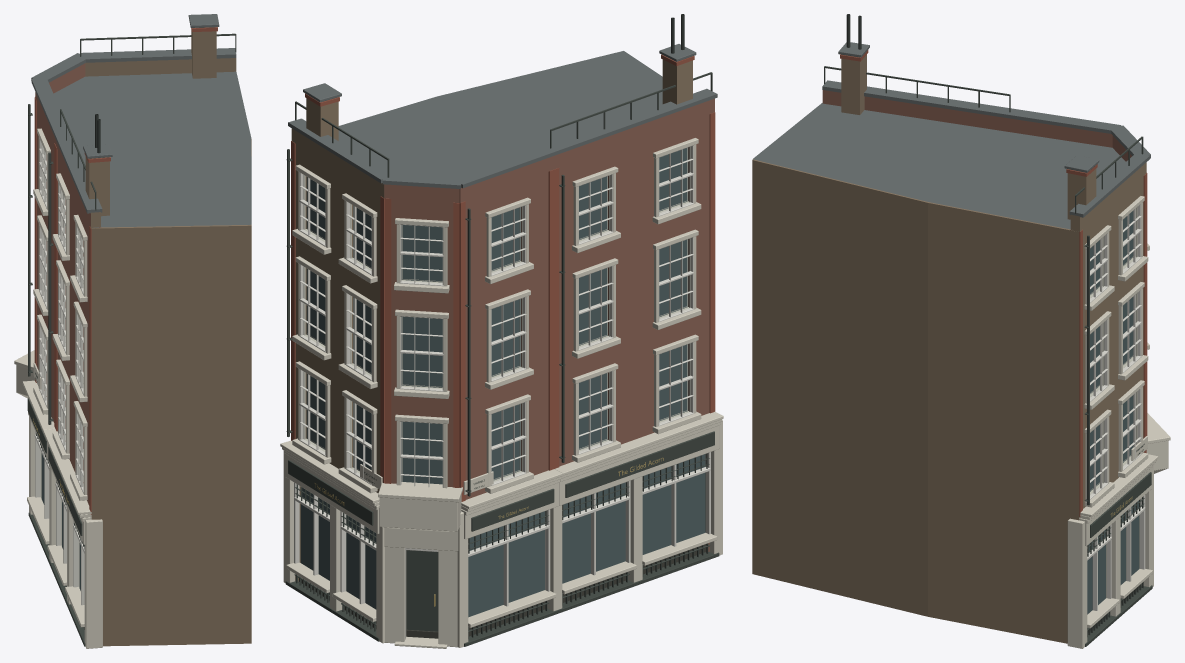
Rendered from por-exterior-2b2f5c6285af.glb.
3 views of the same model, side by side, from view 1: azimuth 30°, elevation 25°; view 2: azimuth 150°, elevation 25°; view 3: azimuth 270°, elevation 25° (orthographic). The views are drawn at different scales.
Parts seen in each view (by area): view 1: POR.001; view 2: POR.001; view 3: POR.001.
Boxes of the visible parts, x1,y1,x2,y2 form: POR.001: (14,14,251,648); POR.001: (280,14,723,648); POR.001: (752,14,1170,648).
Size of the model in its own units: 10.36 by 17.58 by 13.1.
